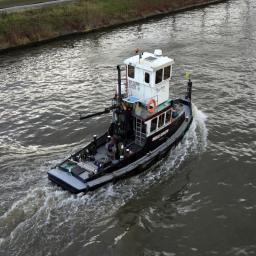tugboat: (47, 46, 196, 200)
